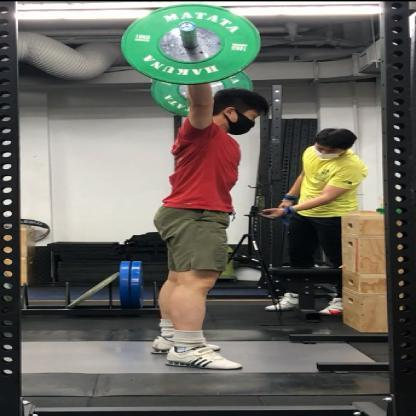barbell: (121, 2, 262, 118)
